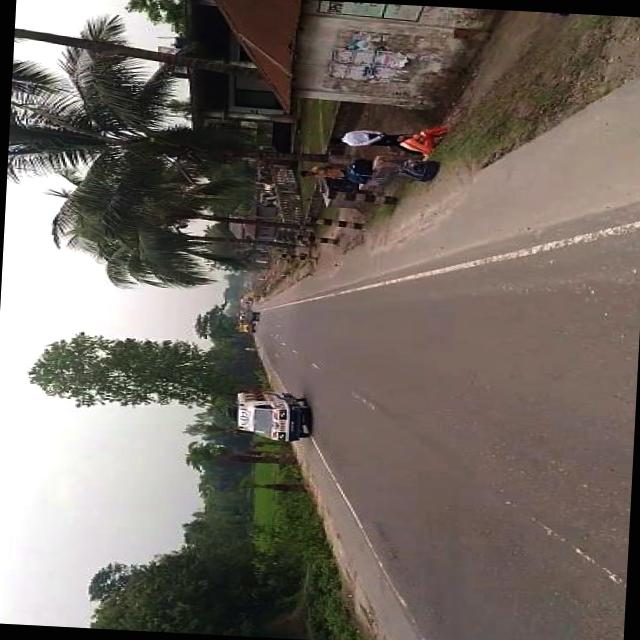bus: (226, 386, 312, 441)
truck: (238, 308, 258, 320), (234, 321, 254, 332)
